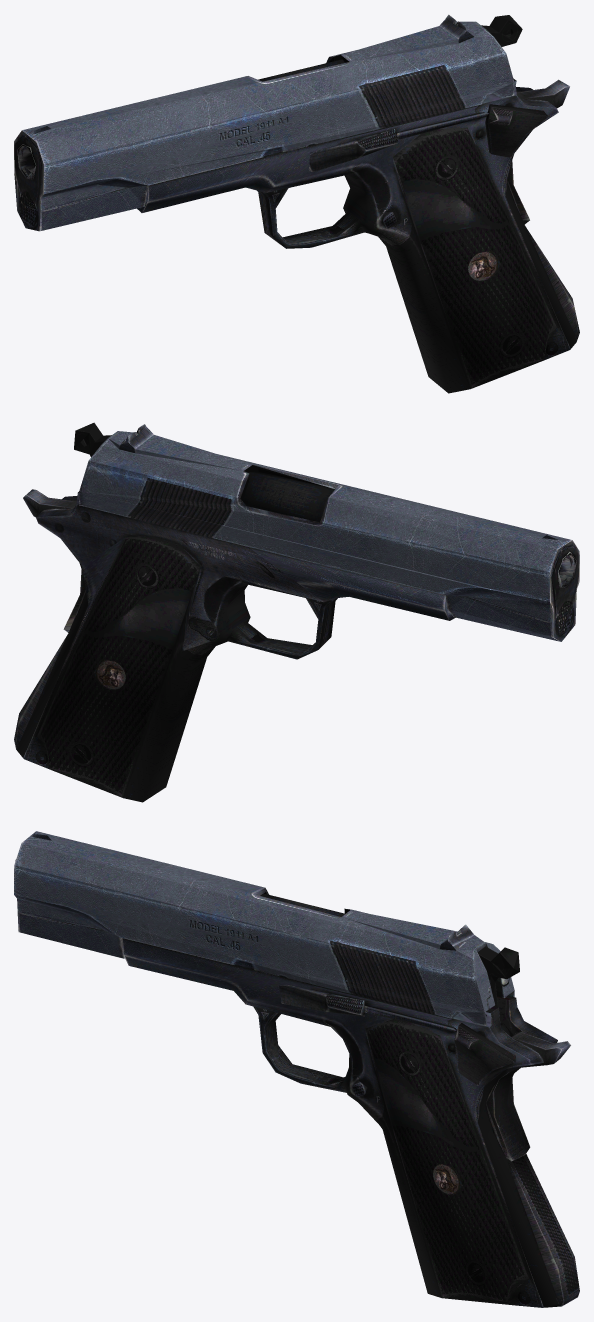
File: pistol.fbx
The picture shows the model from 3 angles, top to bottom: view 1: azimuth 30°, elevation 25°; view 2: azimuth 150°, elevation 25°; view 3: azimuth 330°, elevation 25°; orthographic projection.
Parts seen in each view (by area): view 1: Mesh_0008, Slide, Hammer; view 2: Mesh_0008, Slide, Hammer; view 3: Mesh_0008, Slide, Hammer.
Boxes of the visible parts, x1,y1,x2,y2 form: Mesh_0008: (17,59,579,393); Slide: (14,14,514,231); Hammer: (481,15,522,46); Mesh_0008: (14,471,576,802); Slide: (79,424,579,641); Hammer: (74,422,111,456); Mesh_0008: (122,893,579,1307); Slide: (14,831,514,1025); Hammer: (477,946,519,1006).
Size of the model in its own units: 0.0037 by 0.00233 by 0.000479.
